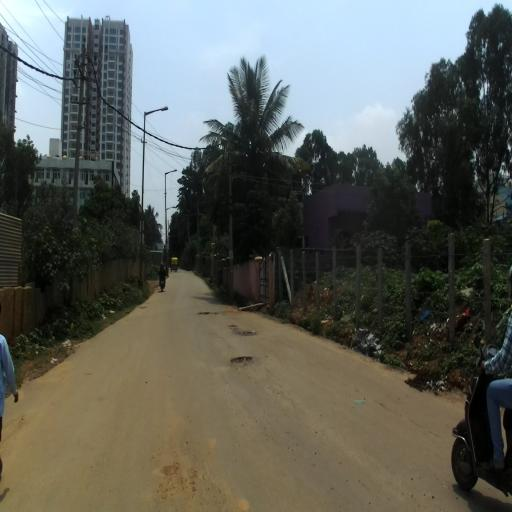street_light_0: (144, 106, 168, 116), (165, 169, 177, 175), (166, 205, 175, 211)
